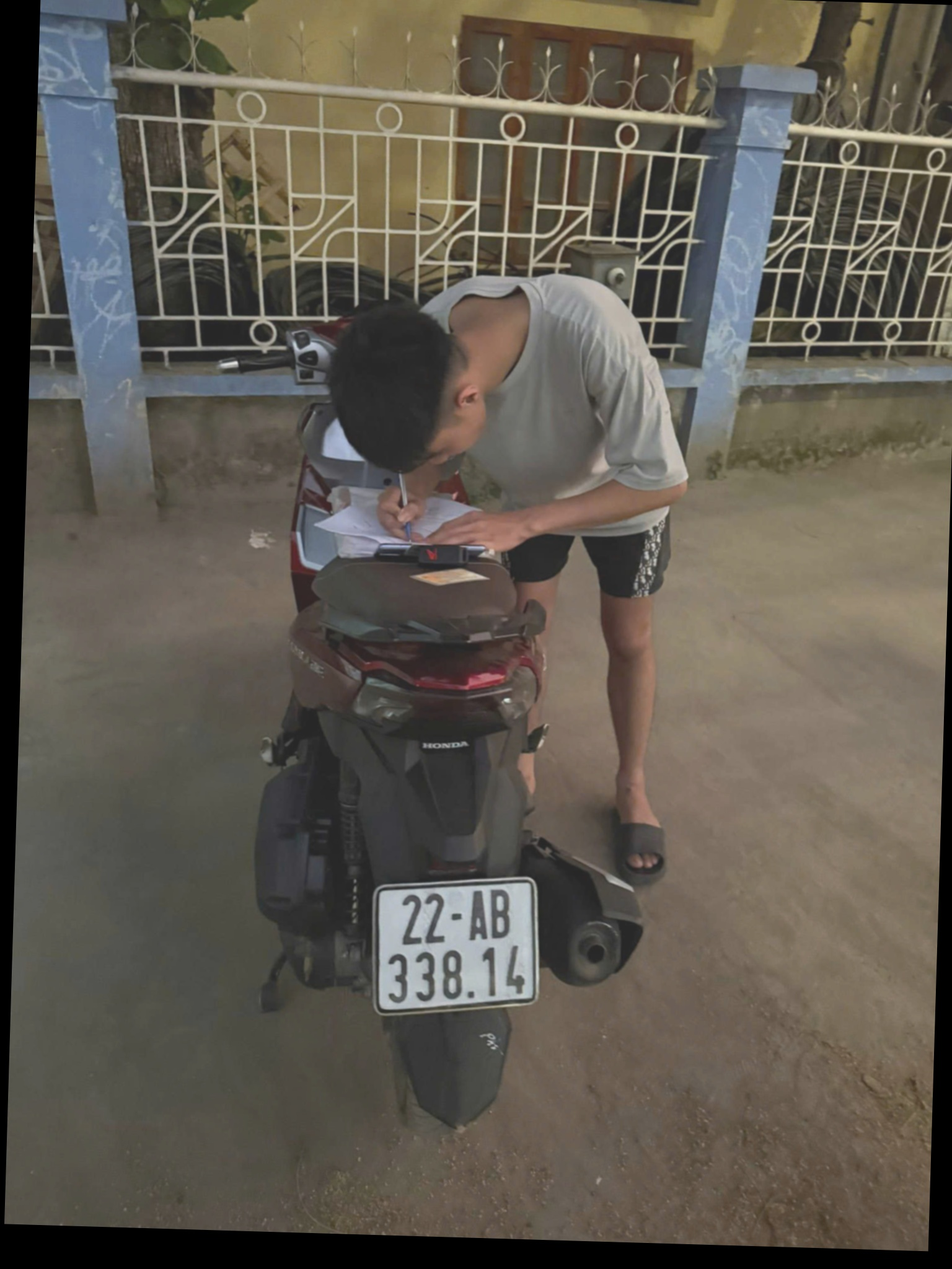Bien-so: (368, 902, 550, 1049)
